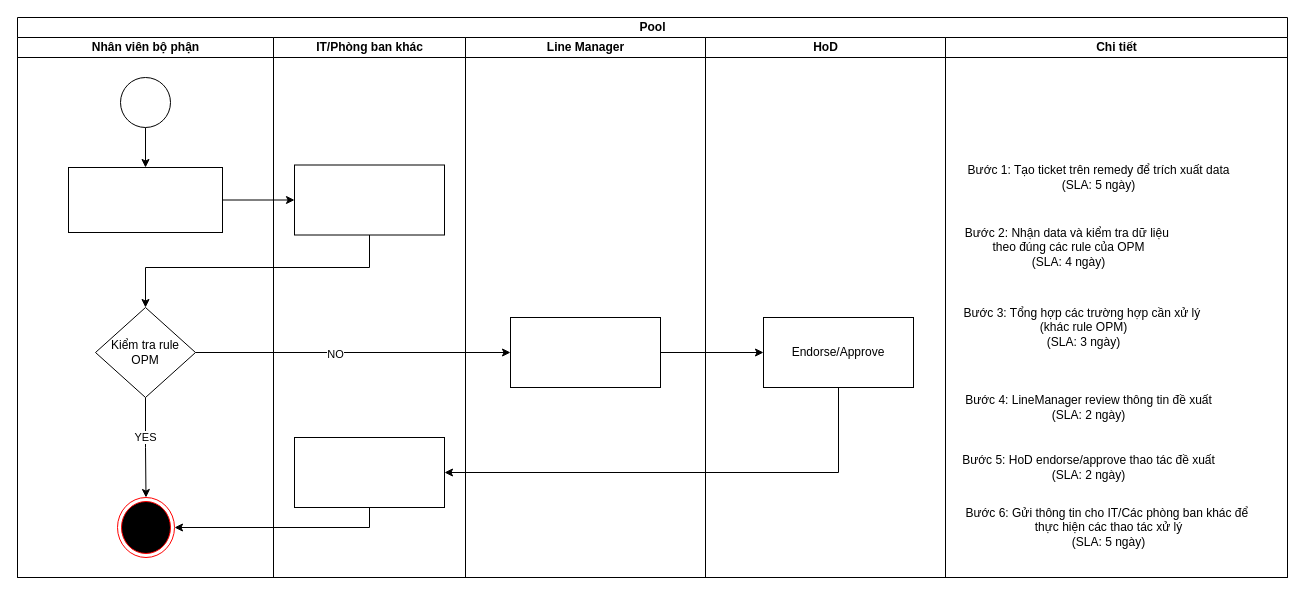
The diagram is 1305 pixels wide and 595 high, and some of its shapes have lost their labels. The centre of each missing label's shape, as x and y in pixels:
IT thực hiện dfu/ Các phòng ban khác xử lý: the point at 369,472
Raise request với IT (remedy): the point at 145,199
Review: the point at 585,352
Trích xuất data: the point at 369,199
